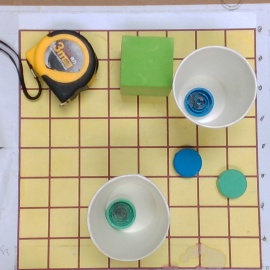blue: (172, 148, 203, 177)
cup_blue: (173, 47, 256, 130)
green: (85, 174, 174, 263), (217, 169, 248, 199)
